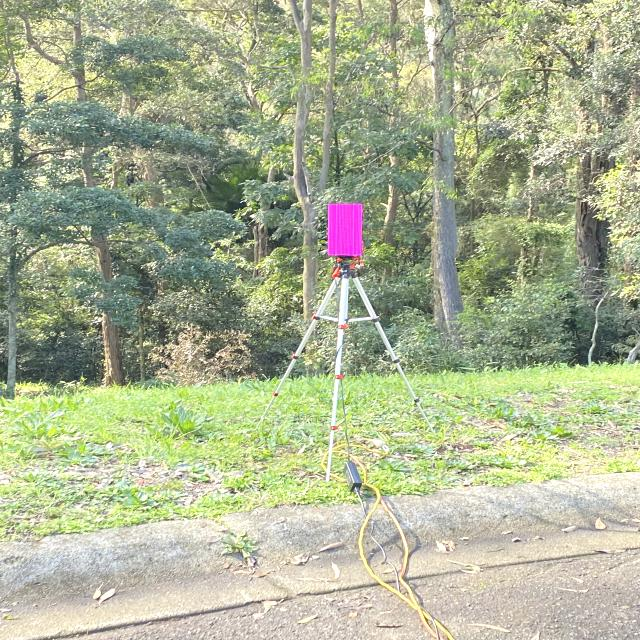matrix: (326, 201, 364, 258)
